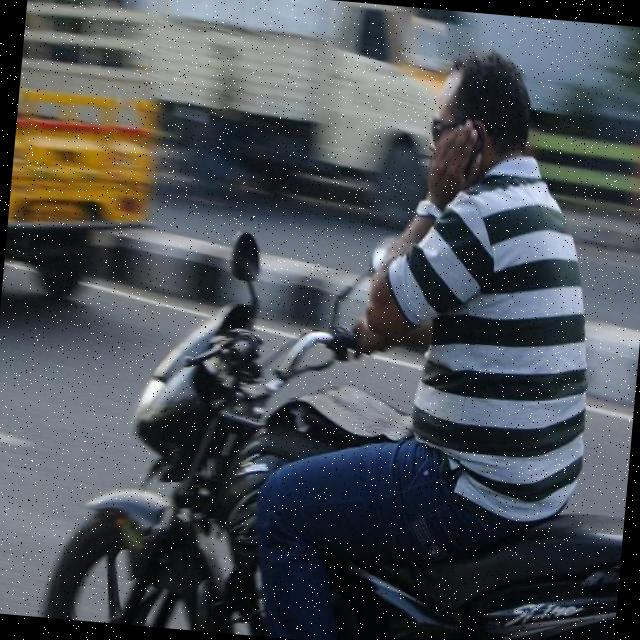No helmet: (406, 48, 550, 207)
Using mobile: (378, 43, 621, 312)
